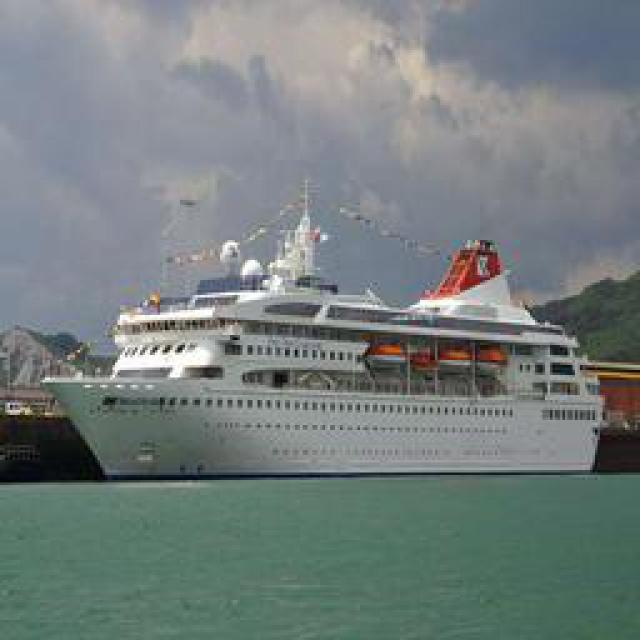Ship: (39, 197, 612, 467)
